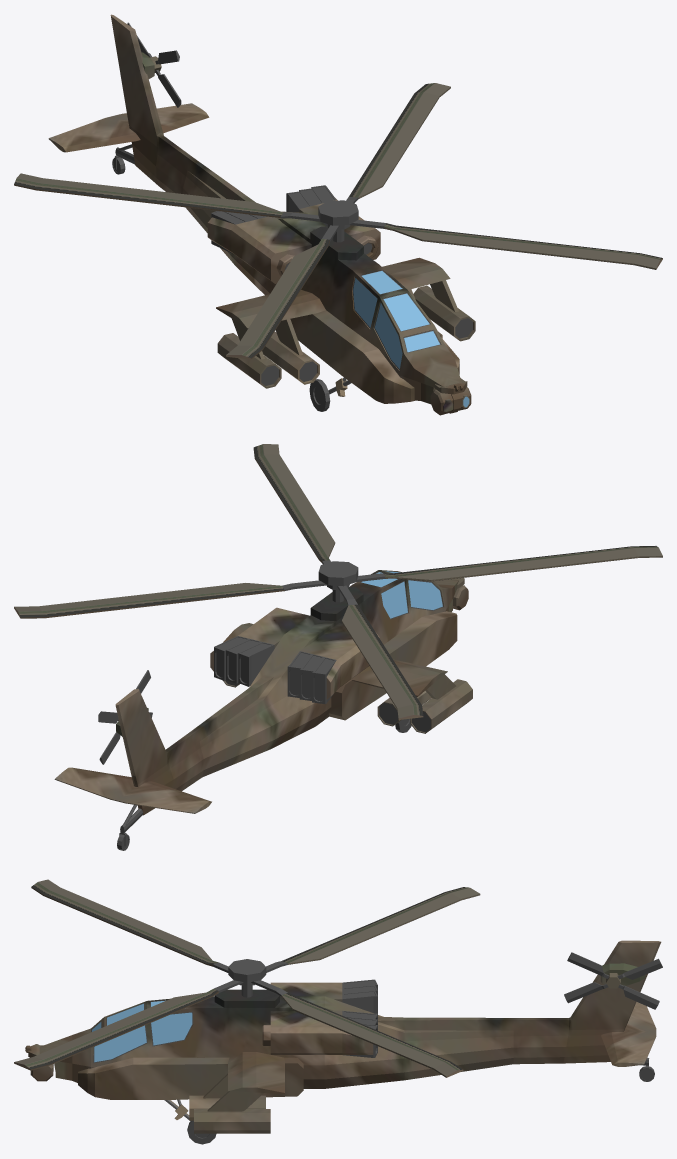
File: chopper.glb
3 views of the same model, one above another, from view 1: azimuth 30°, elevation 25°; view 2: azimuth 150°, elevation 25°; view 3: azimuth 270°, elevation 25° (orthographic). The views are drawn at different scales.
Parts seen in each view (by area): view 1: Cube_14, Cube.009_0, Cube.001_8, Cube.007_10, Cube.005_9, Circle_1, Cube.003_11, Cube.002_4; view 2: Cube_14, Cube.009_0, Cube.001_8, Cube.005_9, Cube.007_10, Circle_1, Cube.003_11; view 3: Cube_14, Cube.009_0, Cube.001_8, Cube.007_10, Cube.003_11, Cube.005_9, Circle_1, Plane_13.
Part boxes in pixels (bbox=[...]): Cube_14: bbox=[48, 14, 475, 404]; Cube.009_0: bbox=[14, 83, 662, 359]; Cube.001_8: bbox=[290, 310, 459, 411]; Cube.007_10: bbox=[207, 198, 380, 283]; Cube.005_9: bbox=[211, 185, 336, 253]; Circle_1: bbox=[318, 200, 358, 242]; Cube.003_11: bbox=[127, 22, 181, 107]; Cube.002_4: bbox=[430, 387, 471, 415]; Cube_14: bbox=[54, 570, 472, 815]; Cube.009_0: bbox=[14, 444, 662, 719]; Cube.001_8: bbox=[329, 611, 457, 732]; Cube.005_9: bbox=[214, 636, 336, 704]; Cube.007_10: bbox=[210, 607, 379, 699]; Circle_1: bbox=[318, 561, 358, 602]; Cube.003_11: bbox=[98, 670, 152, 764]; Cube_14: bbox=[39, 940, 661, 1133]; Cube.009_0: bbox=[14, 879, 480, 1077]; Cube.001_8: bbox=[78, 1054, 303, 1144]; Cube.007_10: bbox=[262, 982, 373, 1054]; Cube.003_11: bbox=[564, 952, 662, 1009]; Cube.005_9: bbox=[342, 979, 377, 1057]; Circle_1: bbox=[228, 959, 266, 997]; Plane_13: bbox=[600, 963, 645, 985].
Bounding box in the file's own units: 2.19 × 0.947 × 3.05.
4 materials, 1 textured.
